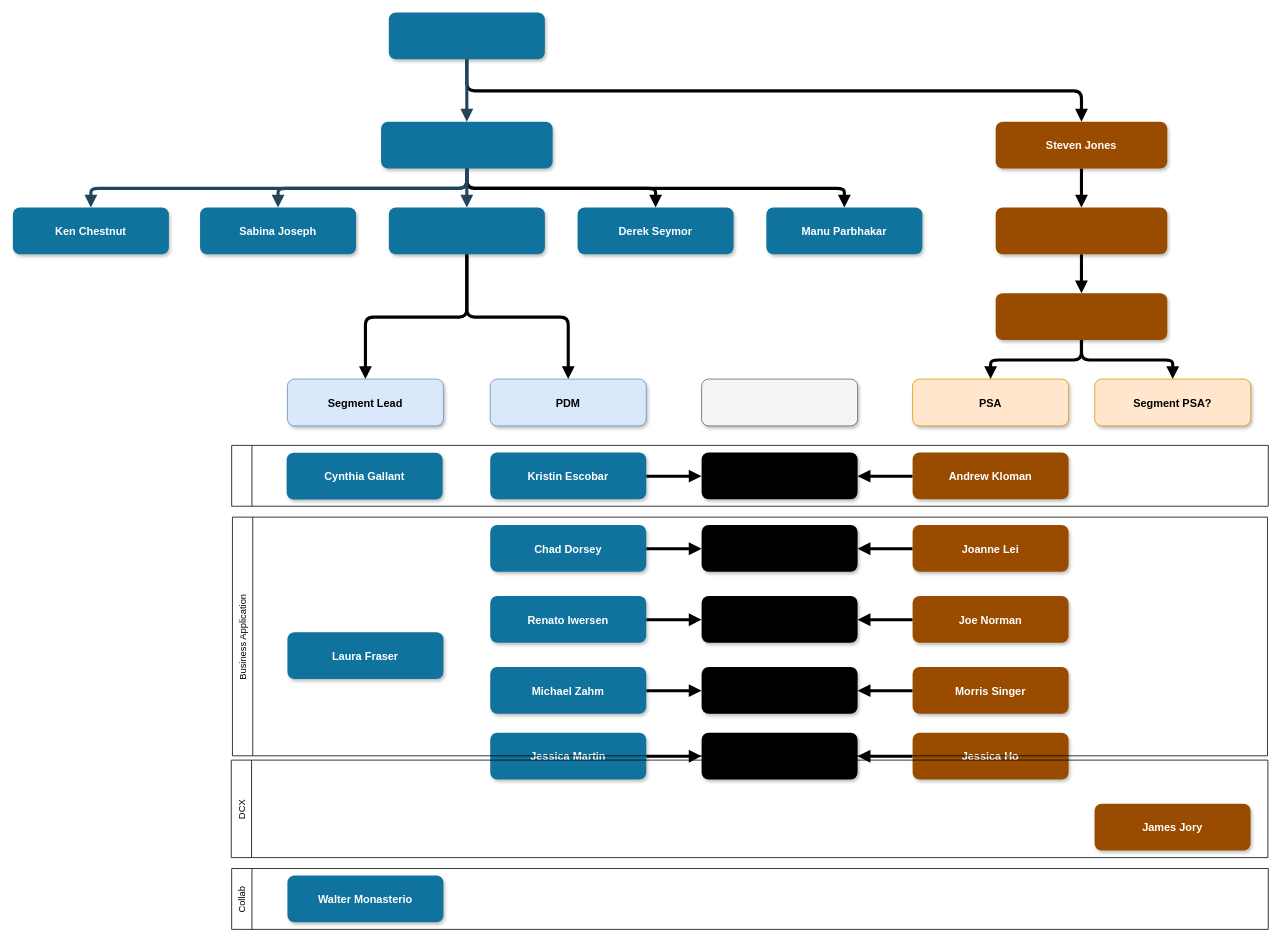
Some shapes in this 1281 by 942 pixel diagram are drawn without their labels. The centre of each missing label's shape, as x and y in pixels:
"Account" goes at point (780, 403).
"Alfresco, Acquia" goes at point (780, 757).
"Box, Slack, Zendesk, Axway" goes at point (780, 620).
"Citrix" goes at point (780, 476).
"Danielle Greshock" goes at point (1082, 231).
"EUC" goes at point (749, 475).
"John Youri" goes at point (467, 231).
"Joshua Hofmann" goes at point (467, 146).
"OpenText, Coupa, Freshworks" goes at point (780, 691).
"Pega, Sage" goes at point (780, 549).
"Steven Pozarycki" goes at point (1082, 317).
"Terry Wise" goes at point (467, 36).
